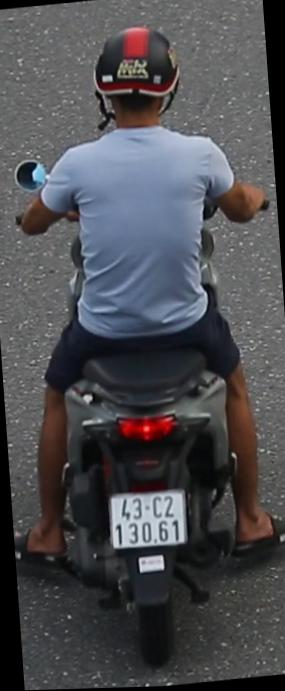LP: (104, 483, 191, 559)
helmet: (86, 18, 186, 144)
